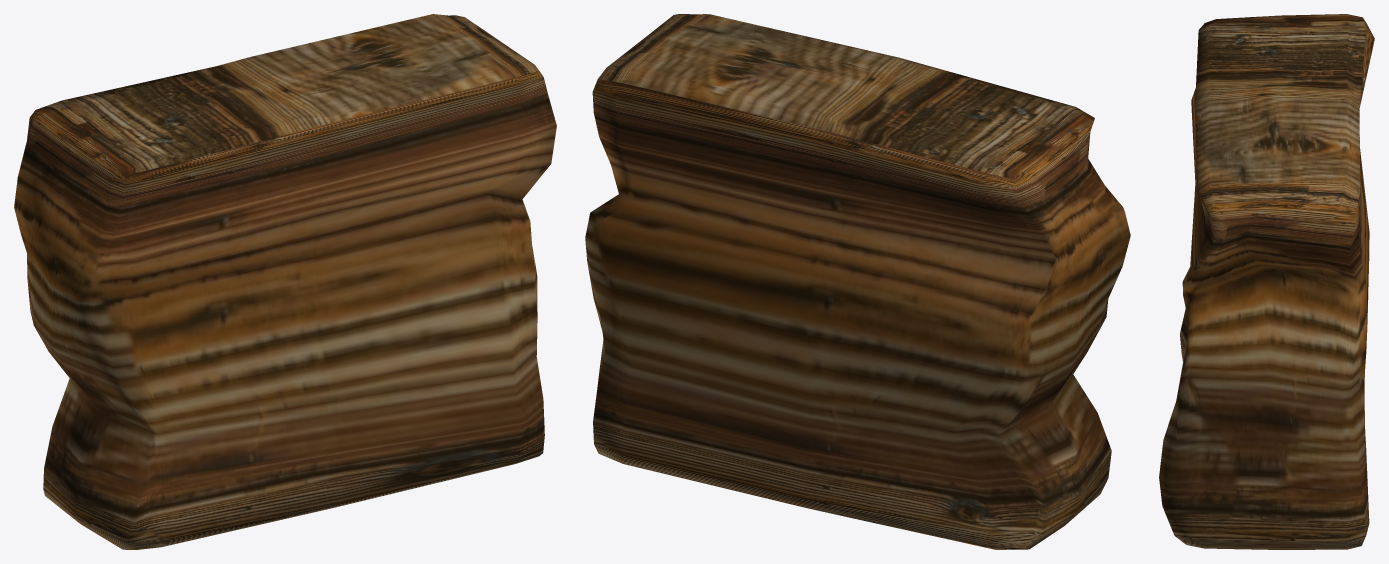
Rendered from Button_02x02.glb.
The picture shows the model from 3 angles, left to right: view 1: azimuth 30°, elevation 25°; view 2: azimuth 150°, elevation 25°; view 3: azimuth 270°, elevation 25°; orthographic projection. The views are drawn at different scales.
Visible parts, largest first — view 1: 0.2х0.2; view 2: 0.2х0.2; view 3: 0.2х0.2.
Part boxes in pixels (x1,y1,x2,y2): 0.2х0.2: [14, 14, 556, 549]; 0.2х0.2: [585, 14, 1130, 549]; 0.2х0.2: [1159, 14, 1374, 549].
Bounding box in the file's own units: 0.5079 × 0.4074 × 0.2199.
Materials: 1 (1 with a texture image).
